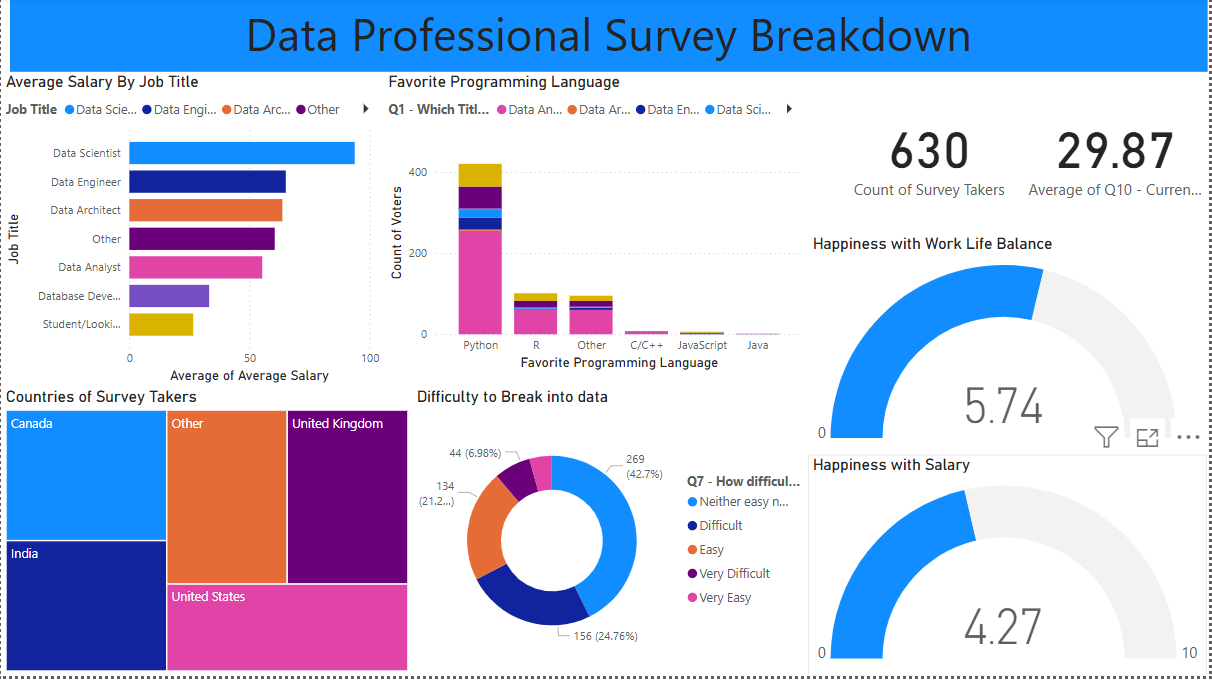

Layout of this report page (visuals, bound fields, positions):
{"tool":"powerbi","page":{"name":"Page 1","canvas":[1280,720],"ordinal":0},"visuals":[{"type":"textbox","box":[9.4,0,1269.9,79.4],"z":0},{"type":"card","fields":{"Values":["CountNonNull(Data Professional Survey.Unique ID)"]},"box":[886.3,79.4,196.5,172],"z":1000},{"type":"card","fields":{"Values":["Avg(Data Professional Survey.Q10 - Current Age)"]},"box":[1082.8,79.4,196.5,172],"z":2000},{"type":"barChart","title":"Average Salary By Job Title","fields":{"Category":["Data Professional Survey.Q1 - Which Title Best Fits your Current Role?.1"],"Y":["Avg(Data Professional Survey.Average Salary)"],"Series":["Data Professional Survey.Q1 - Which Title Best Fits your Current Role?.1"]},"box":[0,79.4,406.3,334.5],"z":3000},{"type":"columnChart","title":"Favorite Programming Language","fields":{"Category":["Data Professional Survey.Q5 - Favorite Programming Language.1"],"Y":["CountNonNull(Data Professional Survey.Unique ID)"],"Series":["Data Professional Survey.Q1 - Which Title Best Fits your Current Role?.1"]},"box":[406.3,79.4,449.8,321.3],"z":4000},{"type":"treemap","title":"Countries of Survey Takers","fields":{"Group":["Data Professional Survey.Q11 - Which Country do you live in?.1"],"Values":["Count(Data Professional Survey.Q11 - Which Country do you live in?.1)"]},"box":[0,413.9,436.5,306.1],"z":5000},{"type":"gauge","title":"Happiness with Work Life Balance","fields":{"Y":["Avg(Data Professional Survey.Q6 - How Happy are you in your Current Position with the following? (Work/Life Balance))"],"MinValue":["Min(Data Professional Survey.Q6 - How Happy are you in your Current Position with the following? (Work/Life Balance))"],"MaxValue":["Max(Data Professional Survey.Q6 - How Happy are you in your Current Position with the following? (Work/Life Balance))1"]},"box":[856.1,251.3,423.3,234.3],"z":6000},{"type":"gauge","title":"Happiness with Salary","fields":{"Y":["Avg(Data Professional Survey.Q6 - How Happy are you in your Current Position with the following? (Salary))"],"MinValue":["Min(Data Professional Survey.Q6 - How Happy are you in your Current Position with the following? (Salary))"],"MaxValue":["Max(Data Professional Survey.Q6 - How Happy are you in your Current Position with the following? (Salary))"]},"box":[856.1,485.7,423.3,234.3],"z":7000},{"type":"donutChart","title":"Difficulty to Break into data","fields":{"Category":["Data Professional Survey.Q7 - How difficult was it for you to break into Data?"],"Y":["CountNonNull(Data Professional Survey.Q7 - How difficult was it for you to break into Data?)"]},"box":[436.5,413.9,419.5,306.1],"z":8000}]}

Visuals, with their boxes in screenshot pixels (x1, y1, x2, y2), scaled from the page's 1280x720 canvas onto the 1212x683 screenshot:
textbox: bbox(9, 0, 1211, 75)
card - CountNonNull(Data Professional Survey.Unique ID): bbox(839, 75, 1025, 238)
card - Avg(Data Professional Survey.Q10 - Current Age): bbox(1025, 75, 1211, 238)
"Average Salary By Job Title" barChart: bbox(0, 75, 385, 393)
"Favorite Programming Language" columnChart: bbox(385, 75, 811, 380)
"Countries of Survey Takers" treemap: bbox(0, 393, 413, 682)
"Happiness with Work Life Balance" gauge: bbox(811, 238, 1211, 461)
"Happiness with Salary" gauge: bbox(811, 461, 1211, 682)
"Difficulty to Break into data" donutChart: bbox(413, 393, 811, 682)
